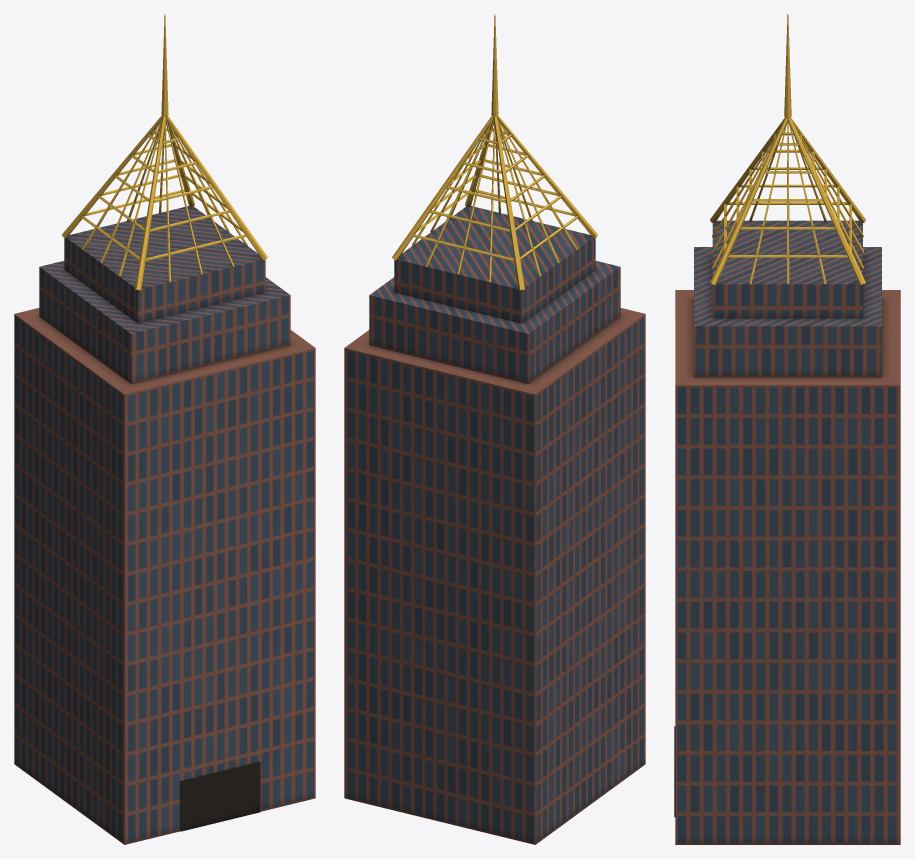
The model's file is torre_piramide.glb.
The picture shows the model from 3 angles, left to right: view 1: azimuth 30°, elevation 25°; view 2: azimuth 150°, elevation 25°; view 3: azimuth 270°, elevation 25°; orthographic projection. The views are drawn at different scales.
Visible parts, largest first — view 1: torre_piramide; view 2: torre_piramide; view 3: torre_piramide.
Part boxes in pixels (box(x1,y1,x2,y2)): torre_piramide: box(14, 14, 315, 844); torre_piramide: box(344, 14, 645, 844); torre_piramide: box(674, 14, 900, 844).
Bounding box in the file's own units: 24 × 92 × 24.1.
Materials: 1 (1 with a texture image).
